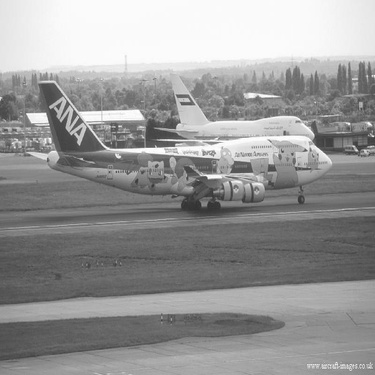airplane: (35, 82, 337, 212), (111, 63, 336, 143)
